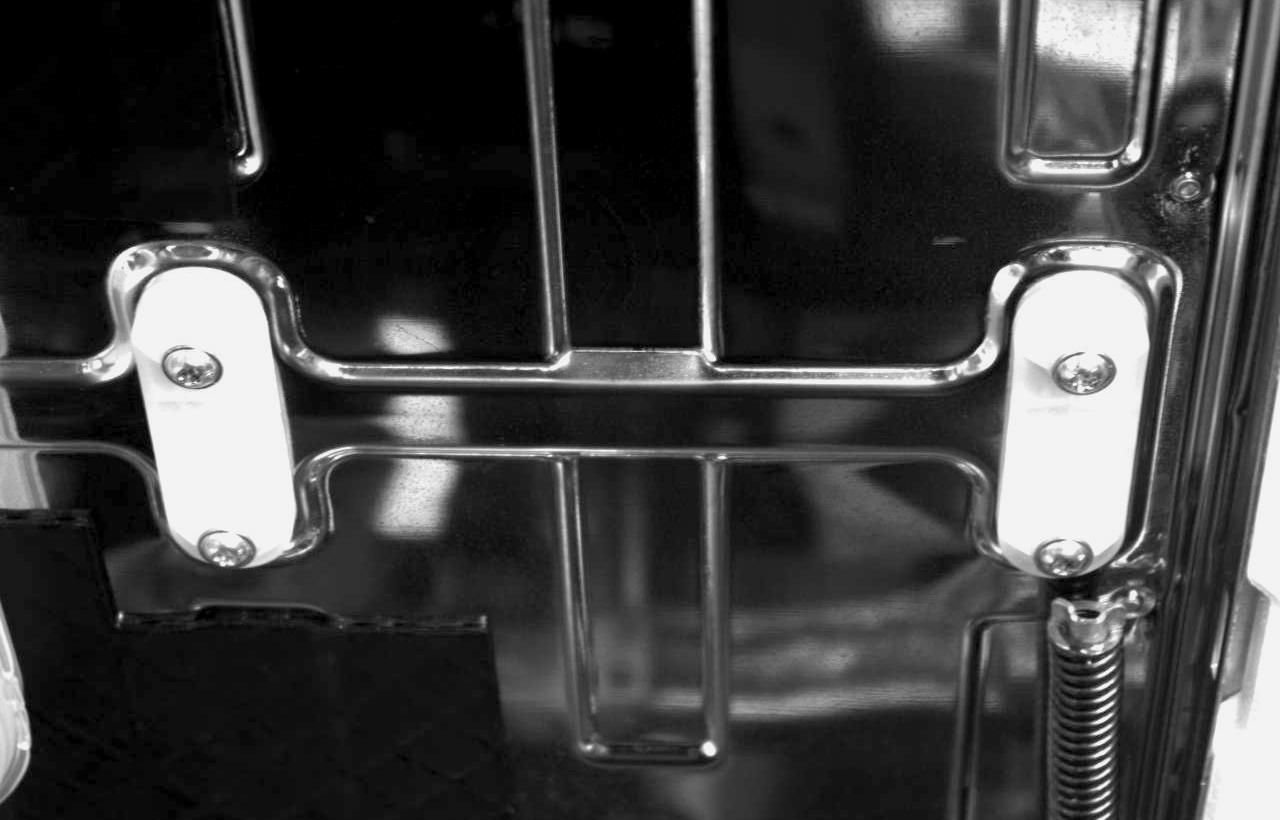vida-ok: (146, 324, 232, 402), (1036, 331, 1124, 403), (187, 511, 264, 575), (1025, 526, 1100, 585)
